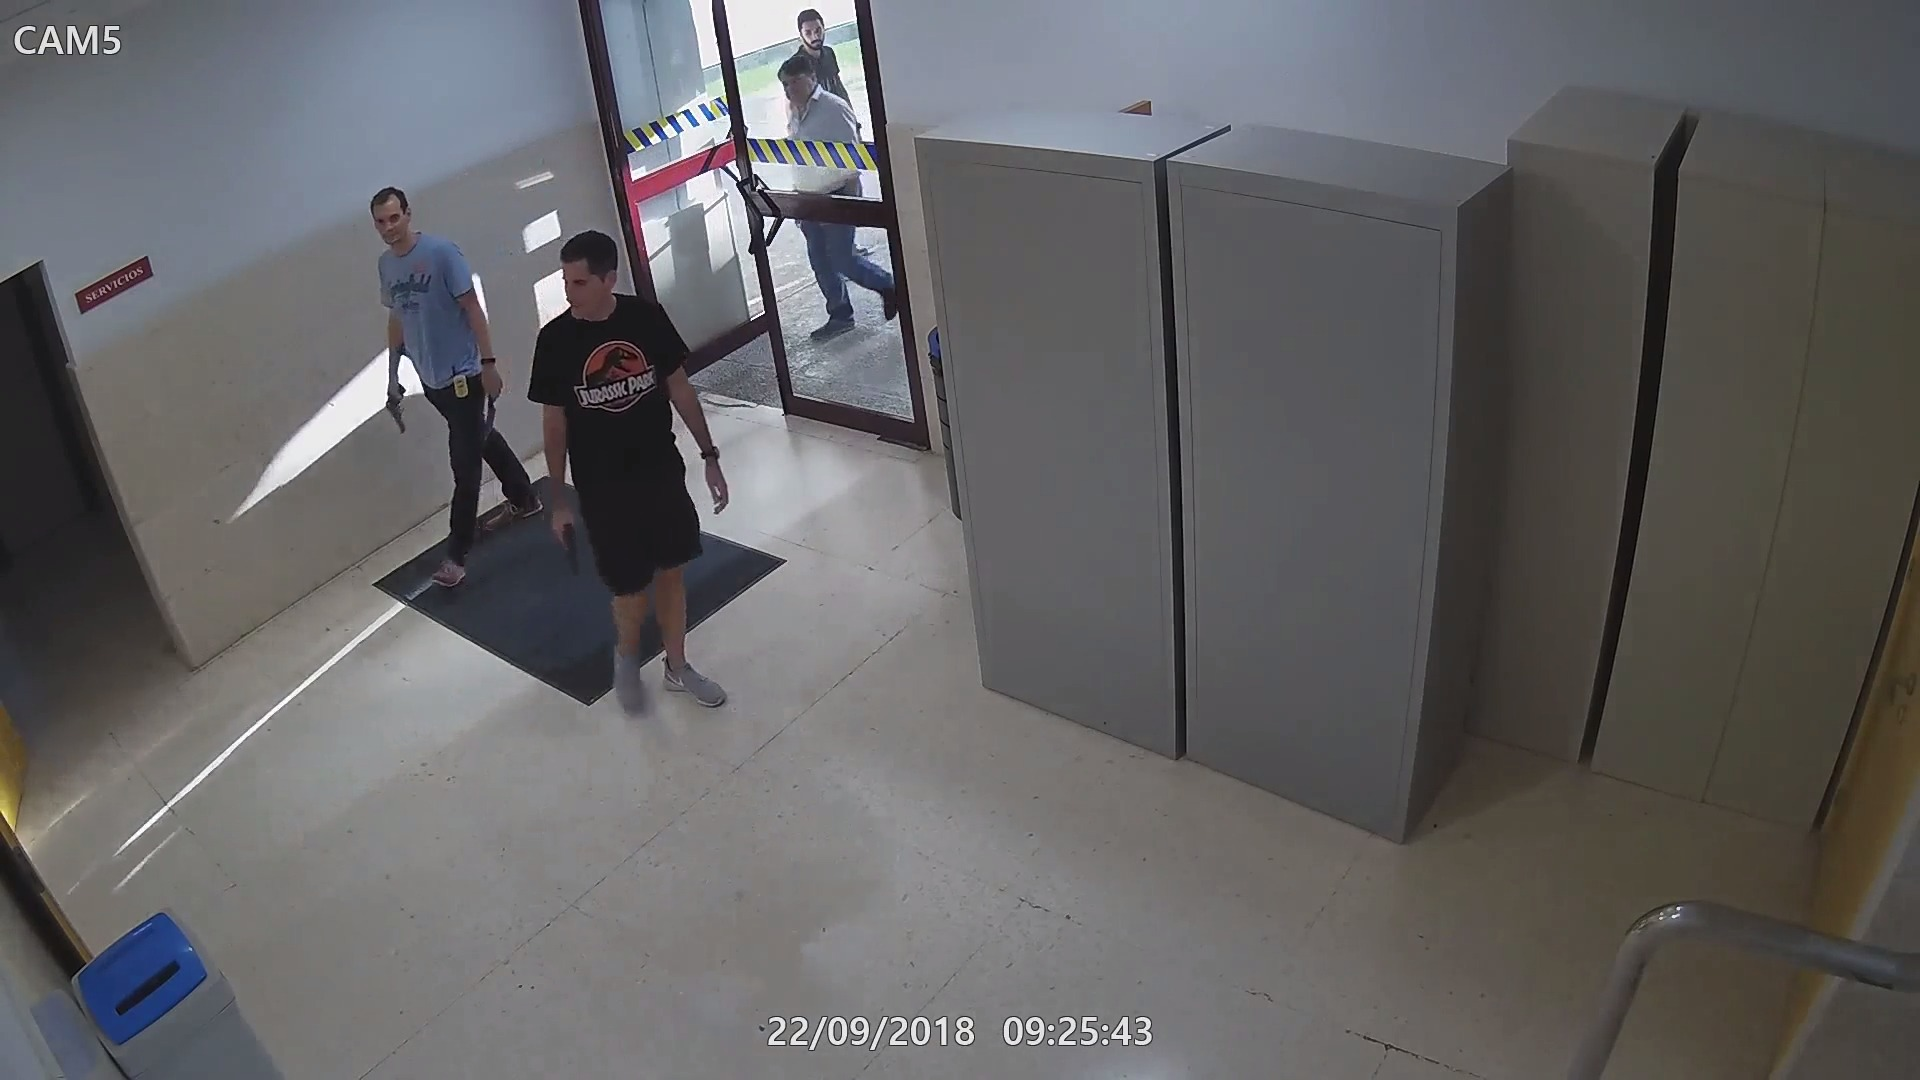knife: (477, 360, 506, 460)
pistol: (550, 498, 588, 584), (380, 376, 409, 436)
